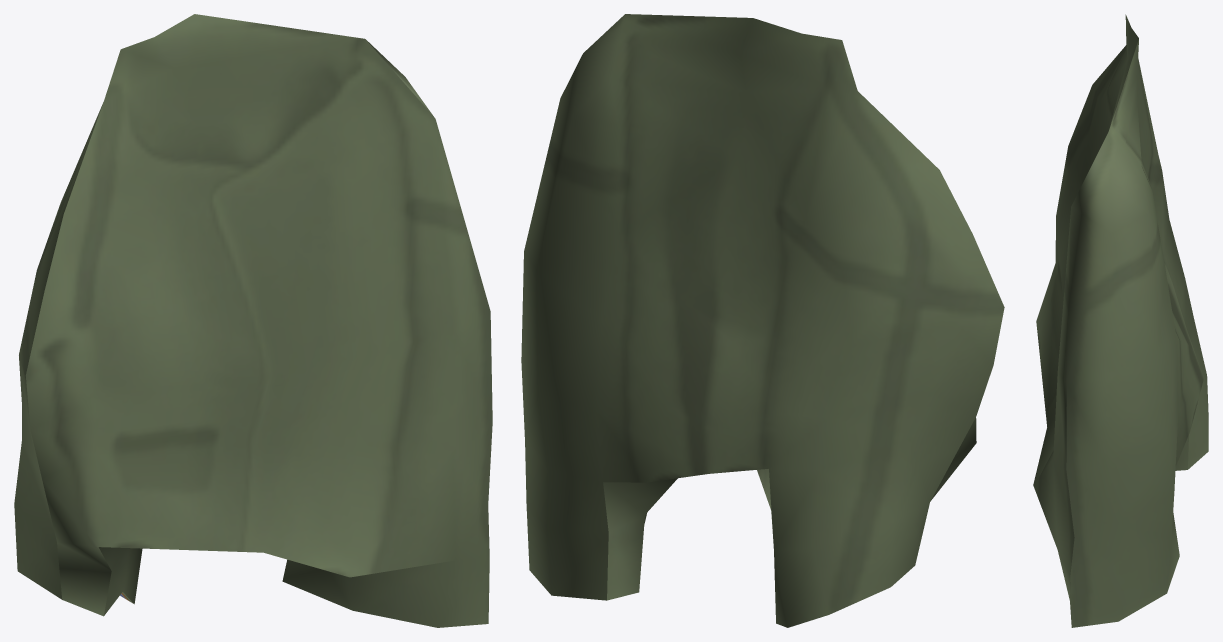
File: Prfb_Hangclothes.fbx
The picture shows the model from 3 angles, left to right: view 1: azimuth 30°, elevation 25°; view 2: azimuth 150°, elevation 25°; view 3: azimuth 270°, elevation 25°; orthographic projection. The views are drawn at different scales.
Visible parts, largest first — view 1: Mat_Hangclothes; view 2: Mat_Hangclothes; view 3: Mat_Hangclothes.
Part boxes in pixels (bbox=[...]): Mat_Hangclothes: bbox=[14, 14, 492, 627]; Mat_Hangclothes: bbox=[521, 14, 1004, 627]; Mat_Hangclothes: bbox=[1033, 14, 1208, 627].
Bounding box in the file's own units: 0.4468 × 0.5801 × 0.1865.
1 material, 1 textured.
